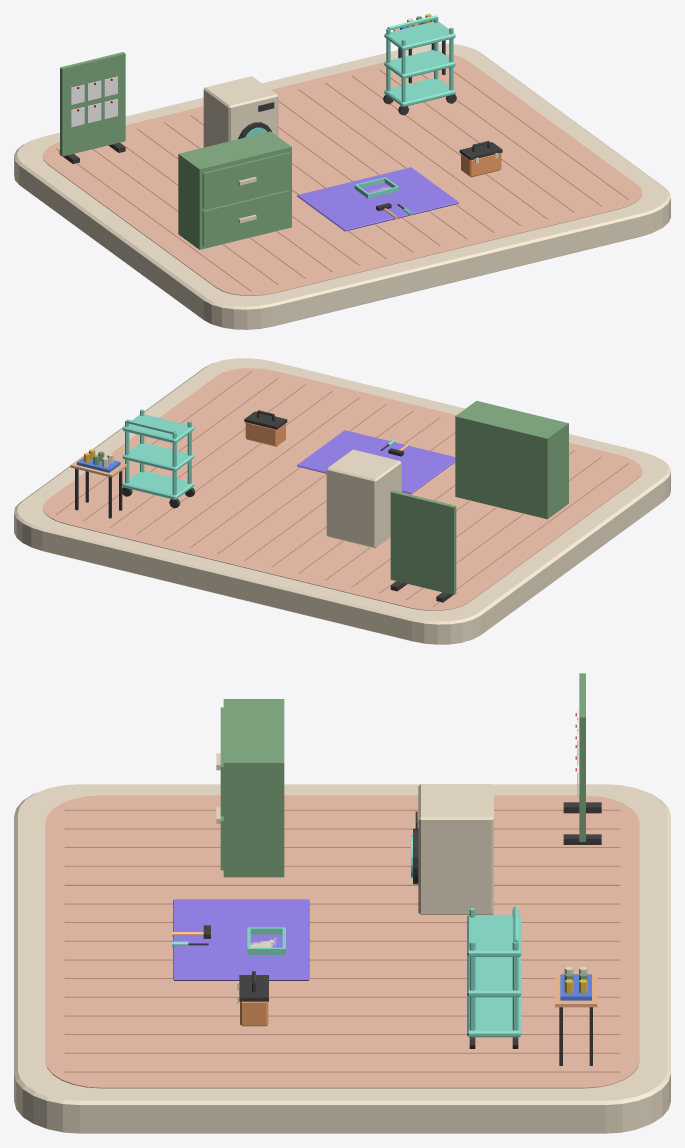
Rendered from room.fbx.
The picture shows the model from 3 angles, top to bottom: view 1: azimuth 30°, elevation 25°; view 2: azimuth 150°, elevation 25°; view 3: azimuth 270°, elevation 25°; orthographic projection. The views are drawn at different scales.
Parts seen in each view (by area): view 1: COM-02 Floor Surface, COM-01 Rounded Base Direct, Cabinet, Rug, Panel, Washing machine, Tray.002, Tray.001, Tray, Box; view 2: COM-02 Floor Surface, COM-01 Rounded Base Direct, Cabinet, Panel, Washing machine, Rug, Tray, Tray.001, Tray.002, Box, Lid; view 3: COM-02 Floor Surface, COM-01 Rounded Base Direct, Cabinet, Rug, Washing machine, Tray.002, Tray, Tray.001, Panel, Plank seam.014, Plank seam.013, Plank seam.004 (+10 smaller).
Part boxes in pixels (box(x1,y1,x2,y2)): COM-02 Floor Surface: box(42, 54, 642, 295); COM-01 Rounded Base Direct: box(14, 43, 670, 329); Cabinet: box(178, 131, 291, 249); Rug: box(297, 167, 458, 231); Panel: box(60, 52, 125, 156); Washing machine: box(203, 76, 278, 147); Tray.002: box(384, 21, 455, 50); Tray.001: box(384, 49, 455, 78); Tray: box(384, 78, 455, 106); Box: box(461, 153, 501, 177); COM-02 Floor Surface: box(42, 368, 642, 610); COM-01 Rounded Base Direct: box(14, 358, 670, 644); Cabinet: box(455, 400, 568, 519); Panel: box(390, 490, 456, 594); Washing machine: box(326, 449, 401, 548); Rug: box(297, 430, 455, 494); Tray: box(122, 471, 194, 499); Tray.001: box(122, 442, 194, 471); Tray.002: box(122, 414, 194, 443); Box: box(245, 422, 285, 446); Lid: box(244, 411, 287, 429); COM-02 Floor Surface: box(45, 795, 639, 1088); COM-01 Rounded Base Direct: box(14, 784, 670, 1133); Cabinet: box(216, 699, 284, 877); Rug: box(173, 899, 309, 980); Washing machine: box(418, 784, 493, 914); Tray.002: box(467, 915, 521, 956); Tray: box(467, 996, 521, 1037); Tray.001: box(467, 956, 521, 997); Panel: box(579, 673, 585, 841); Plank seam.014: box(64, 1071, 620, 1072); Plank seam.013: box(64, 1052, 620, 1053); Plank seam.004: box(64, 884, 620, 885).
Bounding box in the file's own units: 600 × 144 × 520.
